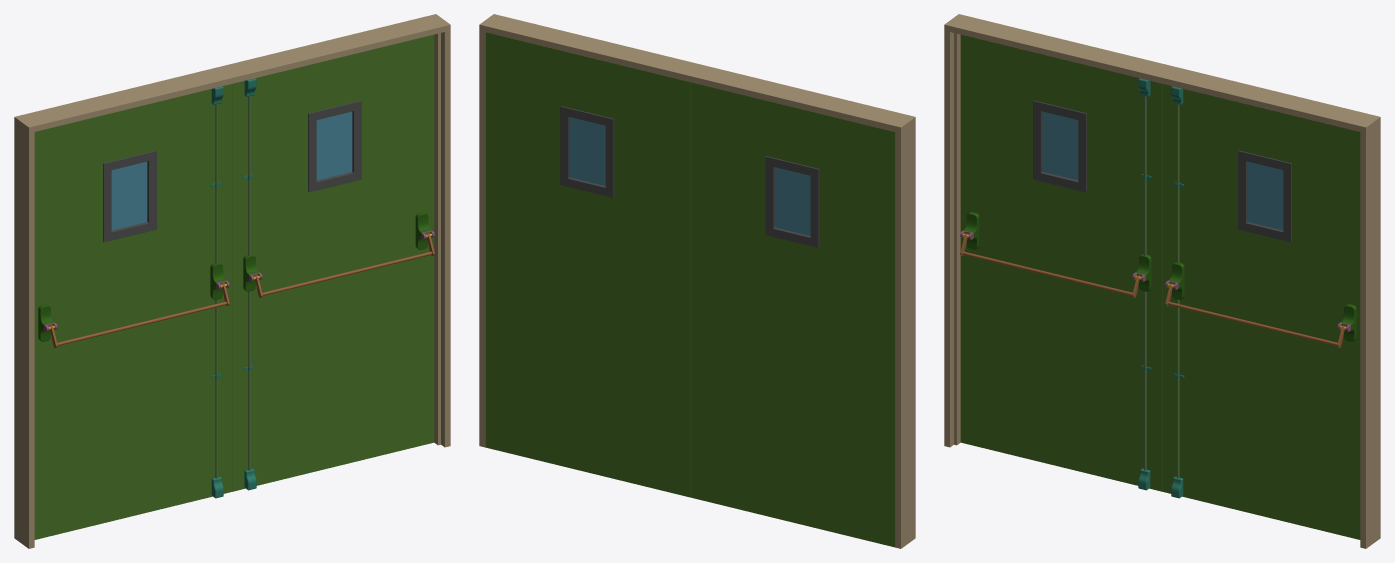
File: ExitDoorDouble.fbx
The picture shows the model from 3 angles, left to right: view 1: azimuth 30°, elevation 25°; view 2: azimuth 150°, elevation 25°; view 3: azimuth 330°, elevation 25°; orthographic projection.
Visible parts, largest first — view 1: SingleDoor_Type_Tall.025_EmerganceyDouble_Door_Color_2_0, SingleDoor_Type_Tall.024_EmerganceyDouble_Door_Color_2_0, SingleDoor_Type_Tall.023_DoubleDoor_Frame_Color_Type_1_0, SingleDoor_Type_Tall.027_Single_Door_Glass_Color_1.001_0, SingleDoor_Type_Tall.039_Single_Door_Glass_Color_1.001_0, SingleDoor_Type_Tall.026_Single_Door_Glass_Frame_Color_1_0, SingleDoor_Type_Tall.040_Single_Door_Glass_Frame_Color_1_0, Emergancey_Door_Pole.000_Emergancey_Door_Pole_Color_1_0, Emergancey_Door_Pole.001_Emergancey_Door_Pole_Color_1_0, Emergancey_Door_Handel_Holder.000_Emergancey_Door_Handel_Hol, Emergancey_Door_Handel.001_Emergancey_Door_Handel_Color_0, Emergancey_Door_Handel.000_Emergancey_Door_Handel_Color_0 (+1 smaller); view 2: SingleDoor_Type_Tall.024_EmerganceyDouble_Door_Color_2_0, SingleDoor_Type_Tall.025_EmerganceyDouble_Door_Color_2_0, SingleDoor_Type_Tall.023_DoubleDoor_Frame_Color_Type_1_0, SingleDoor_Type_Tall.026_Single_Door_Glass_Frame_Color_1_0, SingleDoor_Type_Tall.040_Single_Door_Glass_Frame_Color_1_0, SingleDoor_Type_Tall.039_Single_Door_Glass_Color_1.001_0, SingleDoor_Type_Tall.027_Single_Door_Glass_Color_1.001_0; view 3: SingleDoor_Type_Tall.024_EmerganceyDouble_Door_Color_2_0, SingleDoor_Type_Tall.025_EmerganceyDouble_Door_Color_2_0, SingleDoor_Type_Tall.023_DoubleDoor_Frame_Color_Type_1_0, SingleDoor_Type_Tall.027_Single_Door_Glass_Color_1.001_0, SingleDoor_Type_Tall.039_Single_Door_Glass_Color_1.001_0, SingleDoor_Type_Tall.040_Single_Door_Glass_Frame_Color_1_0, SingleDoor_Type_Tall.026_Single_Door_Glass_Frame_Color_1_0, Emergancey_Door_Pole.001_Emergancey_Door_Pole_Color_1_0, Emergancey_Door_Pole.000_Emergancey_Door_Pole_Color_1_0, Emergancey_Door_Handel_Holder.001_Emergancey_Door_Handel_Hol, Emergancey_Door_Handel.000_Emergancey_Door_Handel_Color_0, Emergancey_Door_Handel.001_Emergancey_Door_Handel_Color_0 (+1 smaller).
Boxes of the visible parts, x1=… form: SingleDoor_Type_Tall.025_EmerganceyDouble_Door_Color_2_0: x1=232, y1=34, x2=434, y2=491; SingleDoor_Type_Tall.024_EmerganceyDouble_Door_Color_2_0: x1=34, y1=84, x2=231, y2=539; SingleDoor_Type_Tall.023_DoubleDoor_Frame_Color_Type_1_0: x1=14, y1=14, x2=450, y2=548; SingleDoor_Type_Tall.027_Single_Door_Glass_Color_1.001_0: x1=111, y1=161, x2=147, y2=230; SingleDoor_Type_Tall.039_Single_Door_Glass_Color_1.001_0: x1=316, y1=111, x2=352, y2=180; SingleDoor_Type_Tall.026_Single_Door_Glass_Frame_Color_1_0: x1=103, y1=150, x2=156, y2=242; SingleDoor_Type_Tall.040_Single_Door_Glass_Frame_Color_1_0: x1=308, y1=100, x2=361, y2=192; Emergancey_Door_Pole.000_Emergancey_Door_Pole_Color_1_0: x1=248, y1=96, x2=250, y2=470; Emergancey_Door_Pole.001_Emergancey_Door_Pole_Color_1_0: x1=215, y1=104, x2=217, y2=478; Emergancey_Door_Handel_Holder.000_Emergancey_Door_Handel_Hol: x1=243, y1=212, x2=430, y2=291; Emergancey_Door_Handel.001_Emergancey_Door_Handel_Color_0: x1=49, y1=283, x2=229, y2=347; Emergancey_Door_Handel.000_Emergancey_Door_Handel_Color_0: x1=254, y1=233, x2=434, y2=297; SingleDoor_Type_Tall.024_EmerganceyDouble_Door_Color_2_0: x1=690, y1=82, x2=895, y2=547; SingleDoor_Type_Tall.025_EmerganceyDouble_Door_Color_2_0: x1=485, y1=32, x2=690, y2=497; SingleDoor_Type_Tall.023_DoubleDoor_Frame_Color_Type_1_0: x1=479, y1=14, x2=915, y2=548; SingleDoor_Type_Tall.026_Single_Door_Glass_Frame_Color_1_0: x1=765, y1=156, x2=819, y2=247; SingleDoor_Type_Tall.040_Single_Door_Glass_Frame_Color_1_0: x1=560, y1=106, x2=614, y2=197; SingleDoor_Type_Tall.039_Single_Door_Glass_Color_1.001_0: x1=570, y1=117, x2=605, y2=185; SingleDoor_Type_Tall.027_Single_Door_Glass_Color_1.001_0: x1=775, y1=167, x2=810, y2=235; SingleDoor_Type_Tall.024_EmerganceyDouble_Door_Color_2_0: x1=960, y1=34, x2=1162, y2=491; SingleDoor_Type_Tall.025_EmerganceyDouble_Door_Color_2_0: x1=1163, y1=84, x2=1360, y2=539; SingleDoor_Type_Tall.023_DoubleDoor_Frame_Color_Type_1_0: x1=944, y1=14, x2=1380, y2=548; SingleDoor_Type_Tall.027_Single_Door_Glass_Color_1.001_0: x1=1042, y1=111, x2=1078, y2=180; SingleDoor_Type_Tall.039_Single_Door_Glass_Color_1.001_0: x1=1247, y1=161, x2=1283, y2=230; SingleDoor_Type_Tall.040_Single_Door_Glass_Frame_Color_1_0: x1=1238, y1=150, x2=1291, y2=242; SingleDoor_Type_Tall.026_Single_Door_Glass_Frame_Color_1_0: x1=1033, y1=100, x2=1086, y2=192; Emergancey_Door_Pole.001_Emergancey_Door_Pole_Color_1_0: x1=1144, y1=96, x2=1146, y2=470; Emergancey_Door_Pole.000_Emergancey_Door_Pole_Color_1_0: x1=1177, y1=104, x2=1179, y2=478; Emergancey_Door_Handel_Holder.001_Emergancey_Door_Handel_Hol: x1=964, y1=212, x2=1151, y2=291; Emergancey_Door_Handel.000_Emergancey_Door_Handel_Color_0: x1=1165, y1=283, x2=1345, y2=347; Emergancey_Door_Handel.001_Emergancey_Door_Handel_Color_0: x1=960, y1=233, x2=1140, y2=297.
Bounding box in the file's own units: 62.82 × 60 × 5.43.
